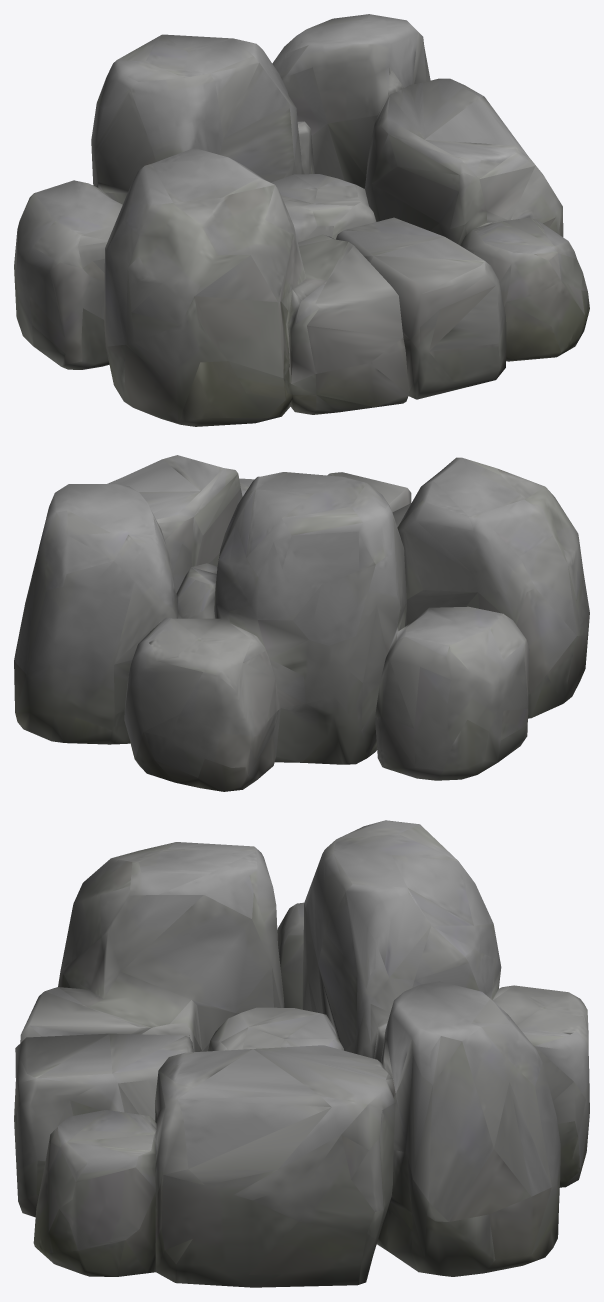
Rendered from roca.glb.
3 renders of one model, top to bottom at view 1: azimuth 30°, elevation 25°; view 2: azimuth 150°, elevation 25°; view 3: azimuth 270°, elevation 25°, orthographic. The views are drawn at different scales.
Parts seen in each view (by area): view 1: Mesh_0; view 2: Mesh_0; view 3: Mesh_0.
Boxes of the visible parts, bbox=[...] form: Mesh_0: bbox=[14, 14, 589, 426]; Mesh_0: bbox=[14, 455, 589, 791]; Mesh_0: bbox=[14, 820, 589, 1287].
Bounding box in the file's own units: 1.9 × 0.9482 × 1.78.
1 material, 1 textured.
